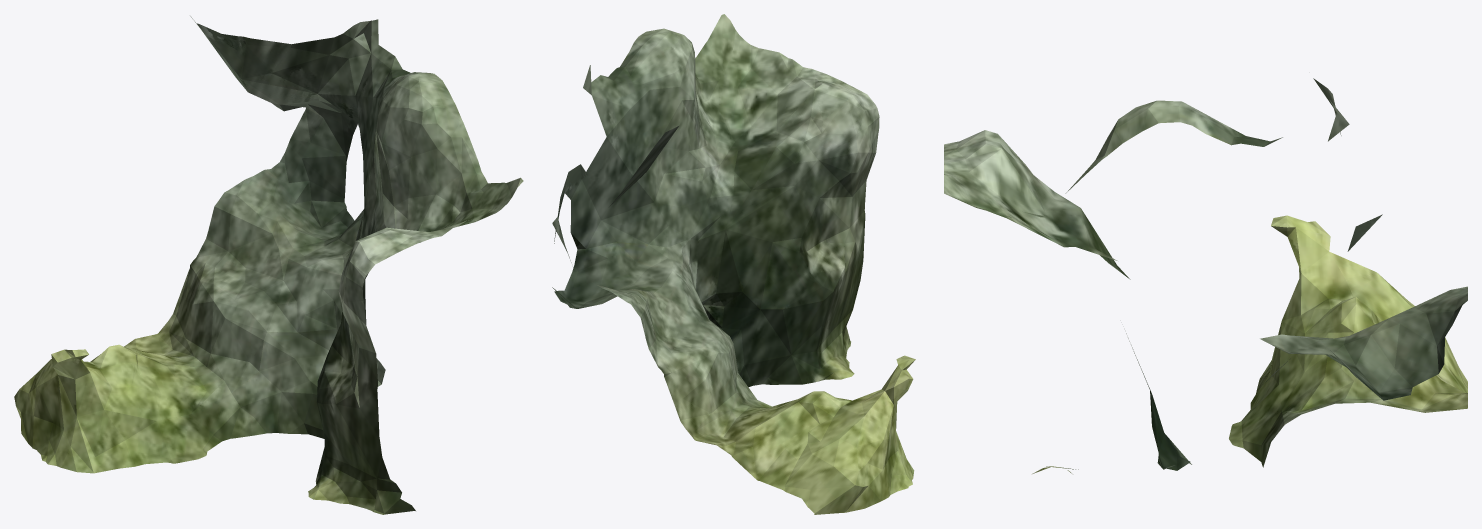
3 views of the same model, side by side, from view 1: azimuth 30°, elevation 25°; view 2: azimuth 150°, elevation 25°; view 3: azimuth 270°, elevation 25° (orthographic). The views are drawn at different scales.
Bounding box in the file's own units: 2.89 × 2.95 × 2.95.
4 materials, 4 textured.
